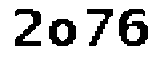2: (10, 6, 47, 52)
6: (118, 6, 151, 51)
7: (82, 4, 117, 49)
o: (52, 18, 76, 49)
